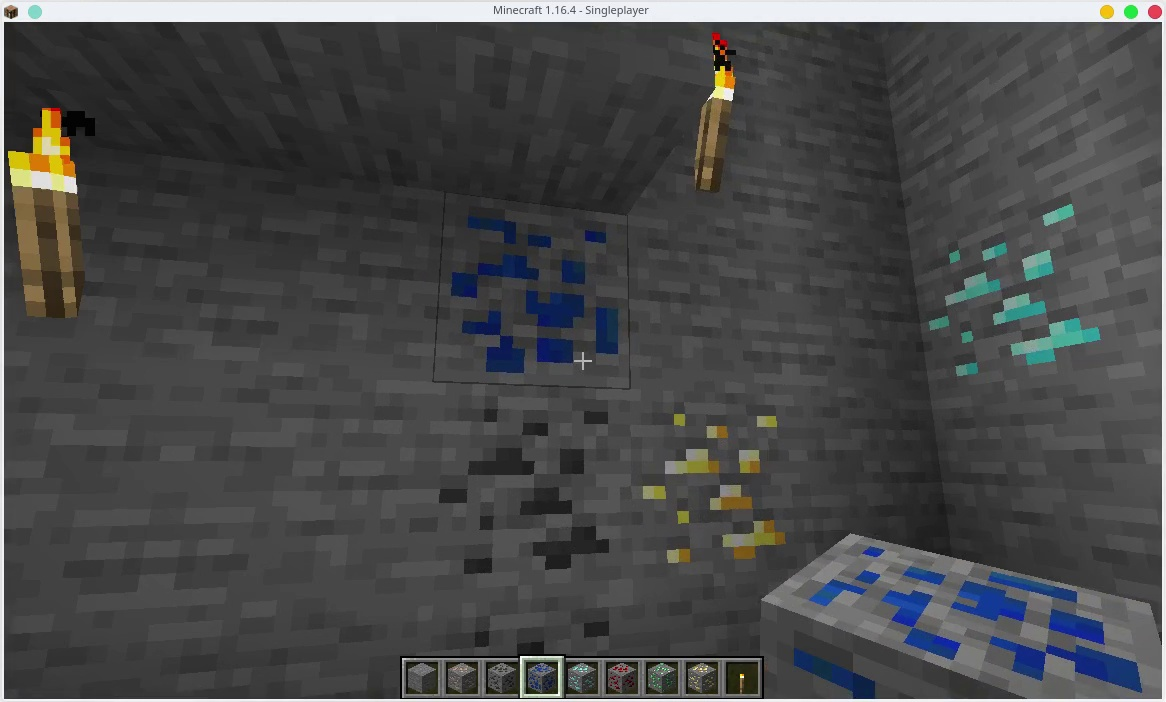gold: (638, 406, 792, 573), (685, 661, 715, 694)
